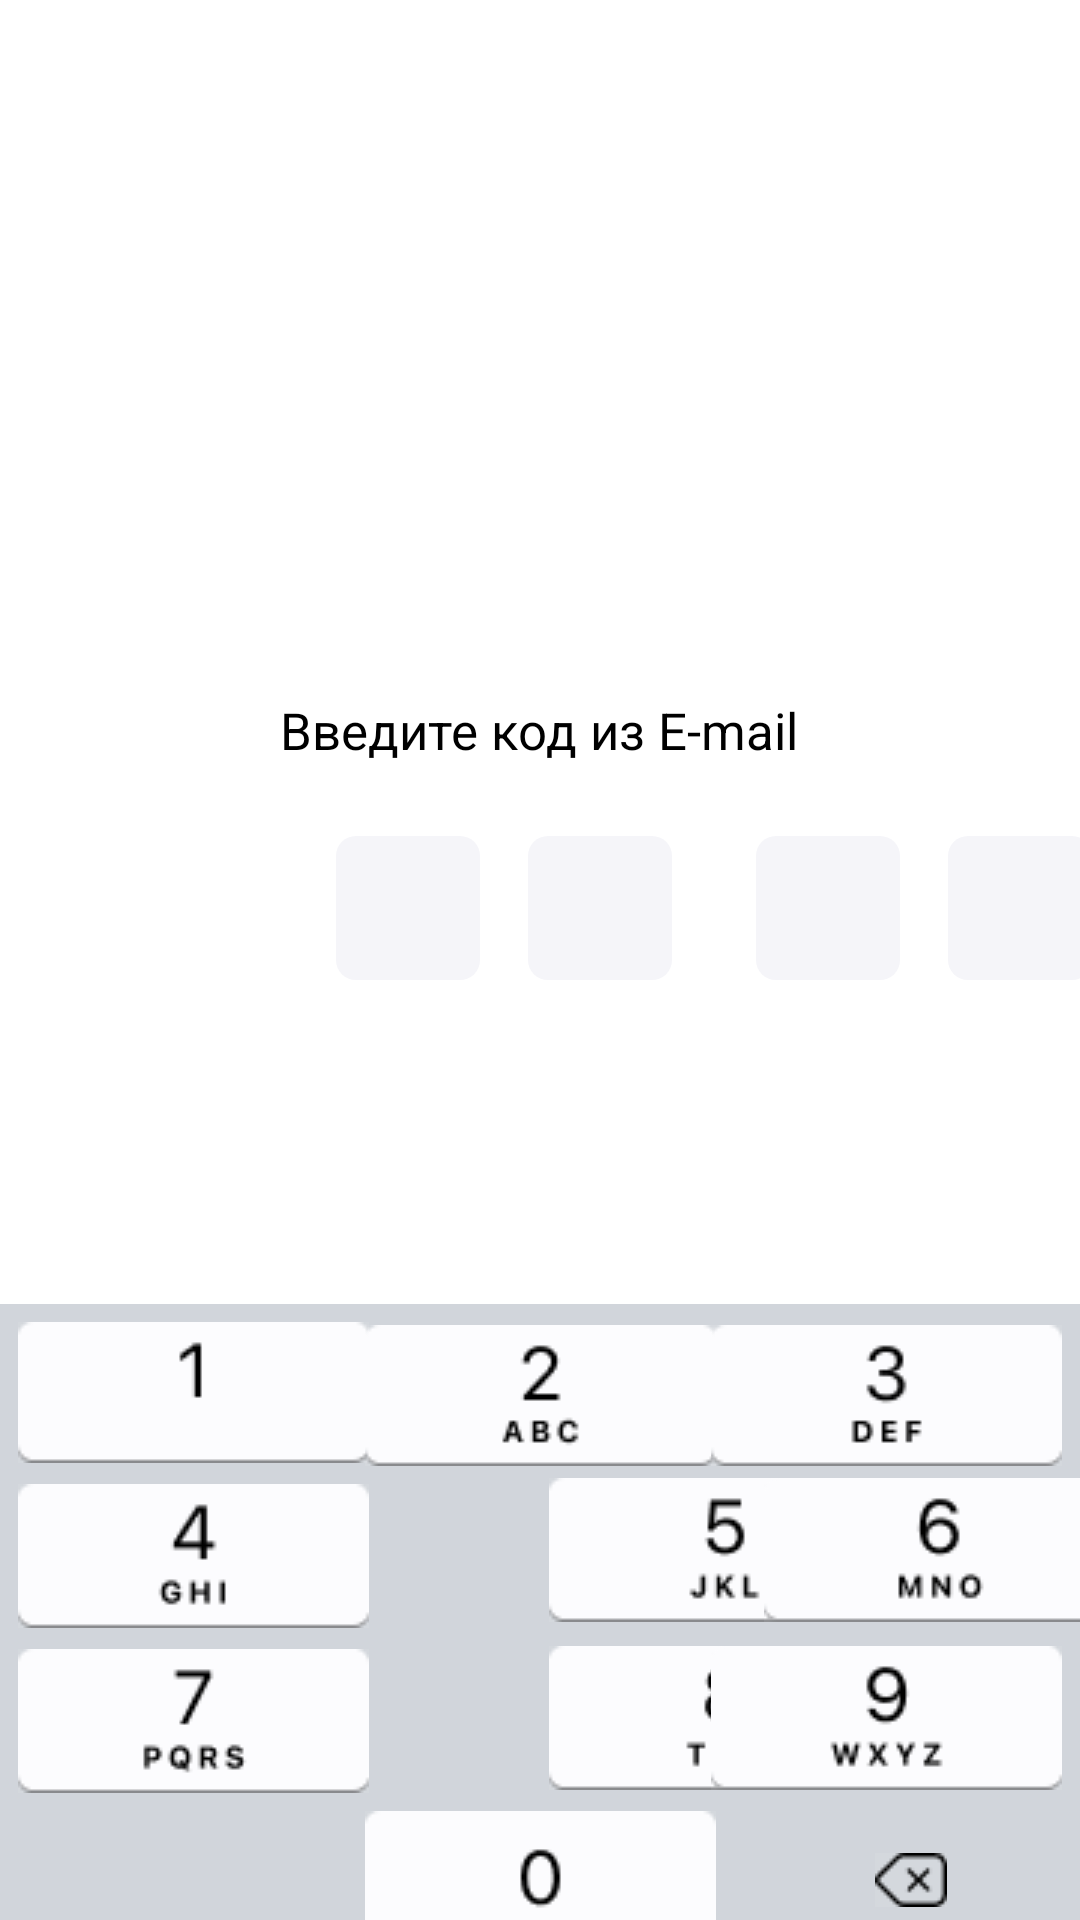

Locate icon controls on the screen. Image size 1080 × 1920, boxes as bbox=(x1, y1, x2, y2).
delete: bbox=(875, 1853, 947, 1907)
